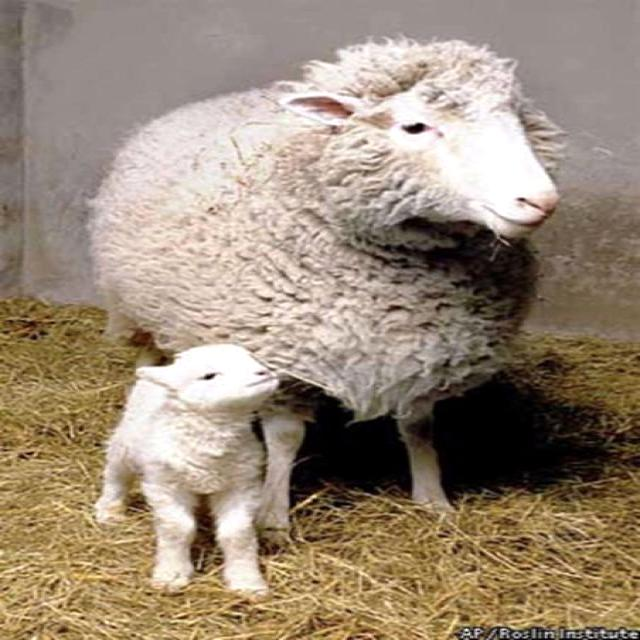sheep: (89, 38, 571, 545)
